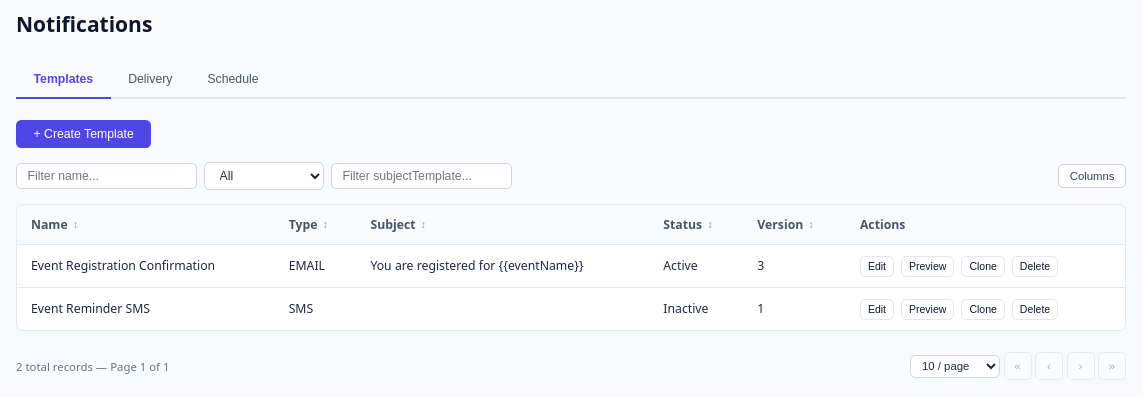
NotificationsContent › Retry button visibility logic › does not show Retry button for PENDING status
Click the tab "Delivery" at (150, 80), box [111,62,190,98]
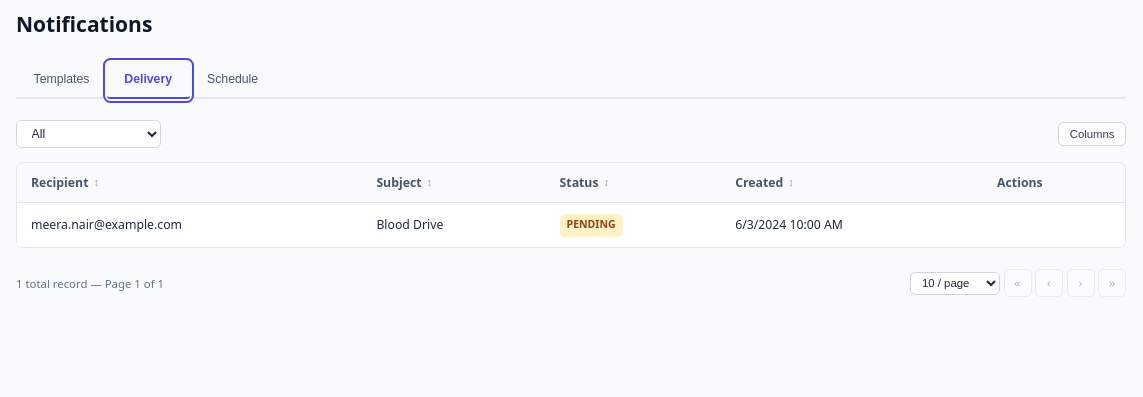
Expected: the text "meera.nair@example.com" is shown, [17,203,362,247]
